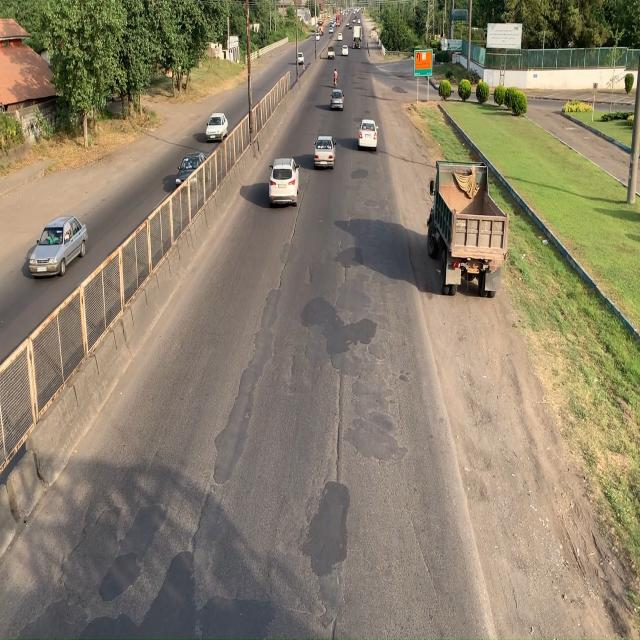Truck: (426, 150, 512, 296)
cars: (28, 209, 88, 288), (265, 152, 304, 207), (172, 144, 210, 197), (203, 106, 230, 144), (358, 113, 380, 155), (313, 131, 336, 171)
